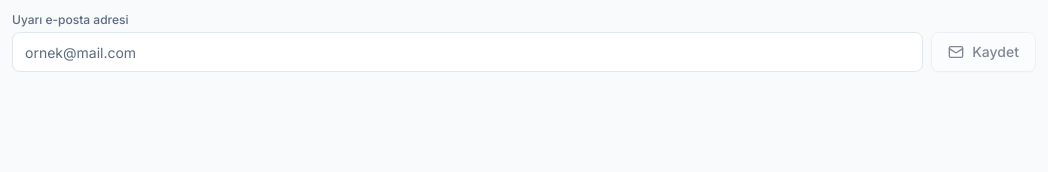
Ayarlar — uyarı adresi formu › KONTROL — ekip üyesinin adresi bugünkü gibi 'Kaydedildi'
Type "owner@example.com" into the field labelled "Uyarı e-posta adresi" at (468, 52), box [12,32,923,72]
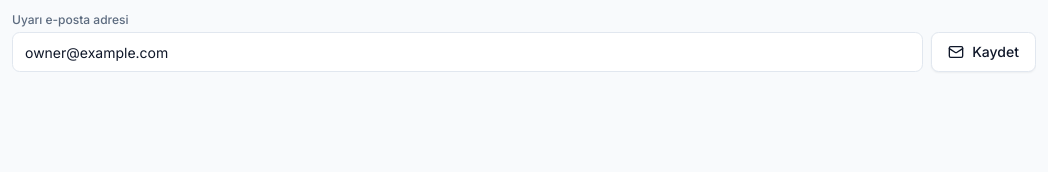
Click the button "Kaydet" at (984, 52), box [931,32,1036,72]
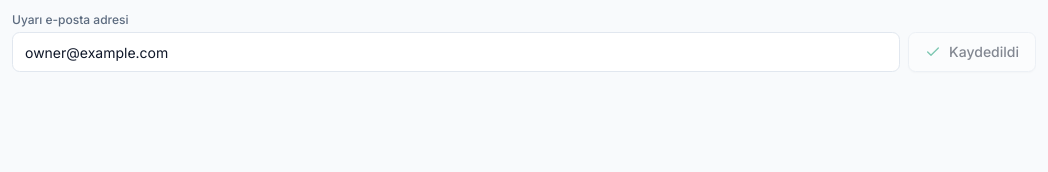
Now the button "Kaydedildi" is shown, box [908,32,1036,72]
